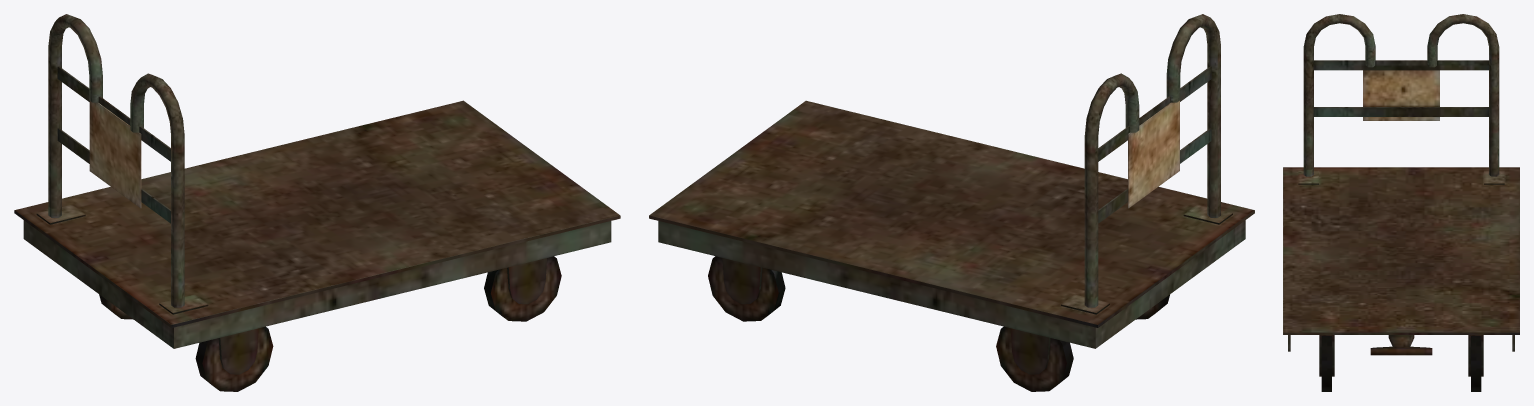
Rendered from pushcart.glb.
3 renders of one model, left to right at view 1: azimuth 30°, elevation 25°; view 2: azimuth 150°, elevation 25°; view 3: azimuth 270°, elevation 25°, orthographic. The views are drawn at different scales.
Visible parts, largest first — view 1: 0_PushCart01a; view 2: 0_PushCart01a; view 3: 0_PushCart01a.
Boxes of the visible parts, x1,y1,x2,y2 form: 0_PushCart01a: [14, 14, 620, 391]; 0_PushCart01a: [649, 14, 1254, 391]; 0_PushCart01a: [1283, 14, 1519, 391].
Bounding box in the file's own units: 1.97 × 1.33 × 1.17.
1 material, 1 textured.
